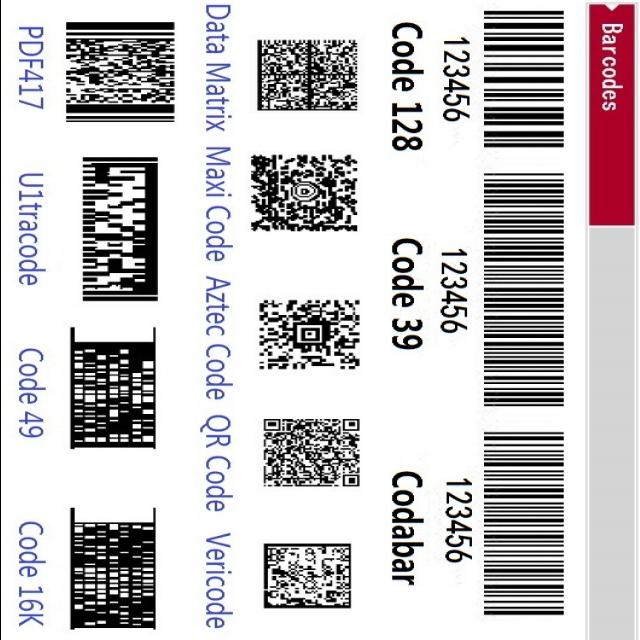DataMatrix: (248, 34, 364, 114)
